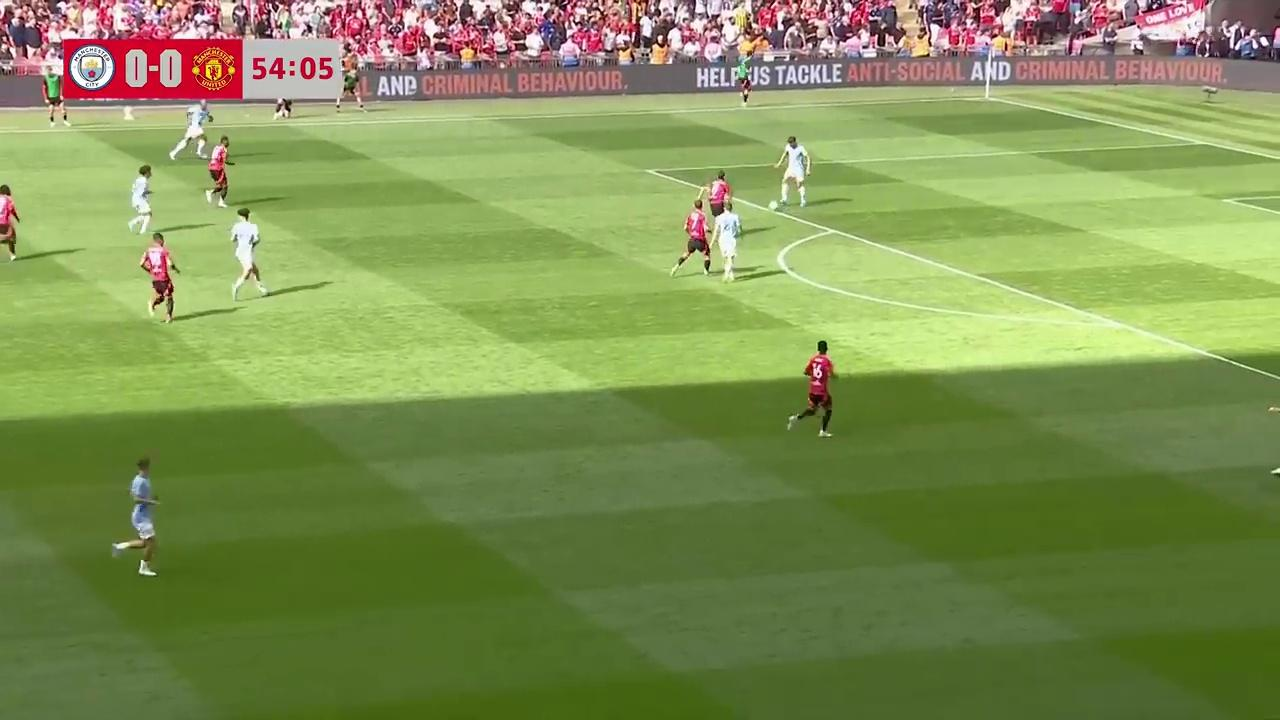ball: (768, 198, 778, 212)
player: (112, 456, 160, 577), (787, 340, 837, 439), (140, 232, 180, 323), (229, 208, 266, 299), (672, 199, 711, 277), (774, 135, 810, 208), (712, 206, 741, 284), (170, 107, 210, 162), (206, 136, 232, 207), (704, 171, 732, 233), (129, 165, 153, 235), (0, 184, 21, 262), (1266, 400, 1280, 483)
